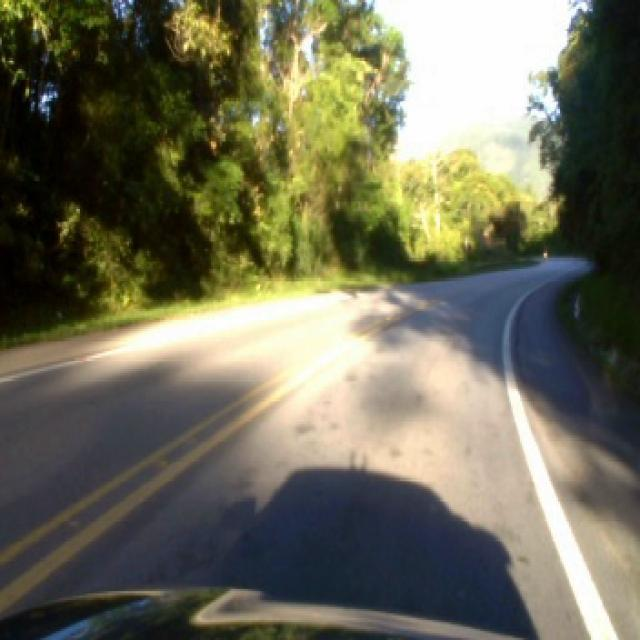Poth-hole: (153, 456, 169, 466)
